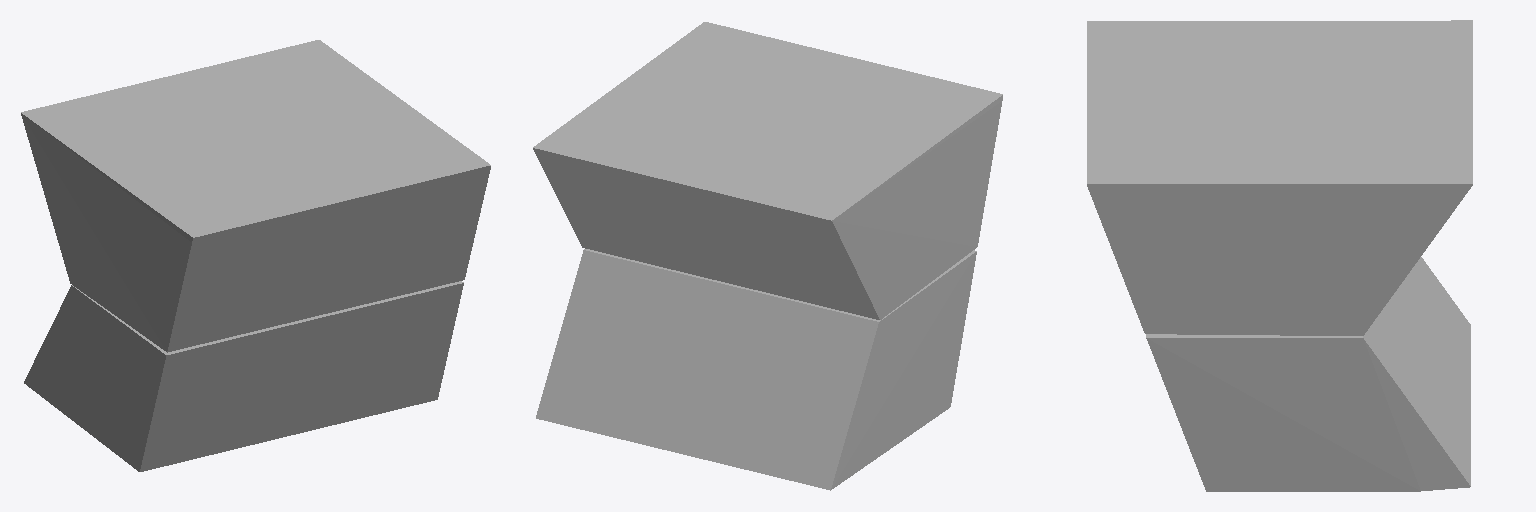
robot.urdf — root:
<robot name="root">
  <link name="link_Skewed Wedge_convex_piece_0">
    <inertial>
      <origin xyz="0 0 0" rpy="0 0 0"/>
      <mass value="1.50E-01"/>
      <inertia ixx="1.19E-04" ixy="7.21E-08" ixz="-9.72E-08" iyy="1.47E-04" iyz="5.09E-06" izz="1.44E-04"/>
    </inertial>
    <visual>
      <origin xyz="0 0 0" rpy="0 0 0"/>
      <geometry>
        <mesh filename="Skewed Wedge_convex_piece_0.obj" scale="1.0000E+00 1.0000E+00 1.0000E+00"/>
      </geometry>
      <material name="">
        <color rgba="7.50E-01 7.50E-01 7.50E-01 1"/>
      </material>
    </visual>
    <collision>
      <origin xyz="0 0 0" rpy="0 0 0"/>
      <geometry>
        <mesh filename="Skewed Wedge_convex_piece_0.obj" scale="1.0000E+00 1.0000E+00 1.0000E+00"/>
      </geometry>
    </collision>
  </link>
  <link name="link_Skewed Wedge_convex_piece_1">
    <inertial>
      <origin xyz="0 0 0" rpy="0 0 0"/>
      <mass value="1.20E-01"/>
      <inertia ixx="9.98E-05" ixy="-2.24E-07" ixz="4.93E-07" iyy="1.36E-04" iyz="1.52E-05" izz="9.97E-05"/>
    </inertial>
    <visual>
      <origin xyz="0 0 0" rpy="0 0 0"/>
      <geometry>
        <mesh filename="Skewed Wedge_convex_piece_1.obj" scale="1.0000E+00 1.0000E+00 1.0000E+00"/>
      </geometry>
      <material name="">
        <color rgba="7.50E-01 7.50E-01 7.50E-01 1"/>
      </material>
    </visual>
    <collision>
      <origin xyz="0 0 0" rpy="0 0 0"/>
      <geometry>
        <mesh filename="Skewed Wedge_convex_piece_1.obj" scale="1.0000E+00 1.0000E+00 1.0000E+00"/>
      </geometry>
    </collision>
  </link>
  <joint name="link_Skewed Wedge_convex_piece_1_joint" type="fixed">
    <origin xyz="0 0 0" rpy="0 0 0"/>
    <parent link="link_Skewed Wedge_convex_piece_0"/>
    <child link="link_Skewed Wedge_convex_piece_1"/>
  </joint>
</robot>

--- Render facts (derived) ---
Views: 3 orthographic renders of the robot side by side, from view 1: azimuth 30°, elevation 25°; view 2: azimuth 150°, elevation 25°; view 3: azimuth 270°, elevation 25°.
Model root with 2 links and 1 joints (1 fixed), rooted at link_Skewed Wedge_convex_piece_0, posed all joints at 0.
Links seen in each view (by area): view 1: link_Skewed Wedge_convex_piece_0, link_Skewed Wedge_convex_piece_1; view 2: link_Skewed Wedge_convex_piece_0, link_Skewed Wedge_convex_piece_1; view 3: link_Skewed Wedge_convex_piece_0, link_Skewed Wedge_convex_piece_1.
Boxes of the visible links, x1,y1,x2,y2 form: link_Skewed Wedge_convex_piece_0: [21, 40, 490, 352]; link_Skewed Wedge_convex_piece_1: [24, 281, 463, 471]; link_Skewed Wedge_convex_piece_0: [533, 22, 1002, 319]; link_Skewed Wedge_convex_piece_1: [536, 249, 976, 490]; link_Skewed Wedge_convex_piece_0: [1087, 20, 1472, 335]; link_Skewed Wedge_convex_piece_1: [1146, 257, 1470, 491].
Bounding box of the posed robot: 0.0831 × 0.0828 × 0.0725 m (x, y, z).
Meshes: 2 distinct files referenced, 2 mesh visuals loaded (2 OBJ).
